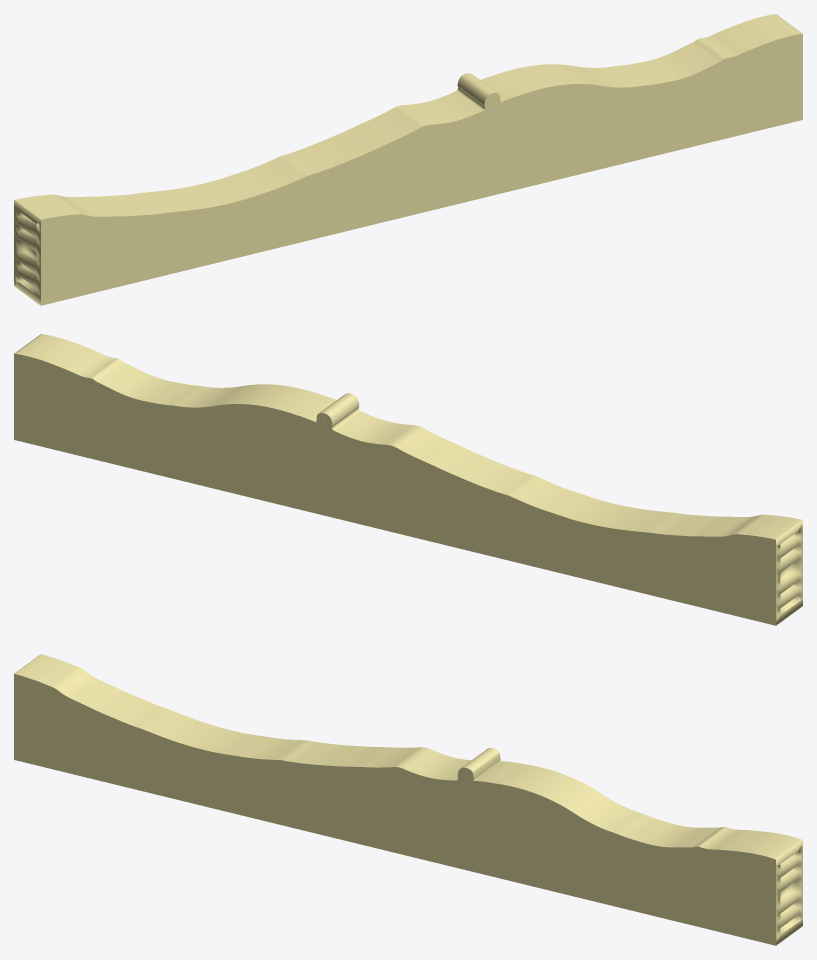
Rendered from sandborder.fbx.
The picture shows the model from 3 angles, top to bottom: view 1: azimuth 30°, elevation 25°; view 2: azimuth 150°, elevation 25°; view 3: azimuth 330°, elevation 25°; orthographic projection.
Parts seen in each view (by area): view 1: Curve; view 2: Curve; view 3: Curve.
Part boxes in pixels (x1,y1,x2,y2): Curve: [14, 14, 802, 305]; Curve: [14, 334, 802, 625]; Curve: [14, 654, 802, 945].
Size of the model in its own units: 1050 by 135 by 64.25.
